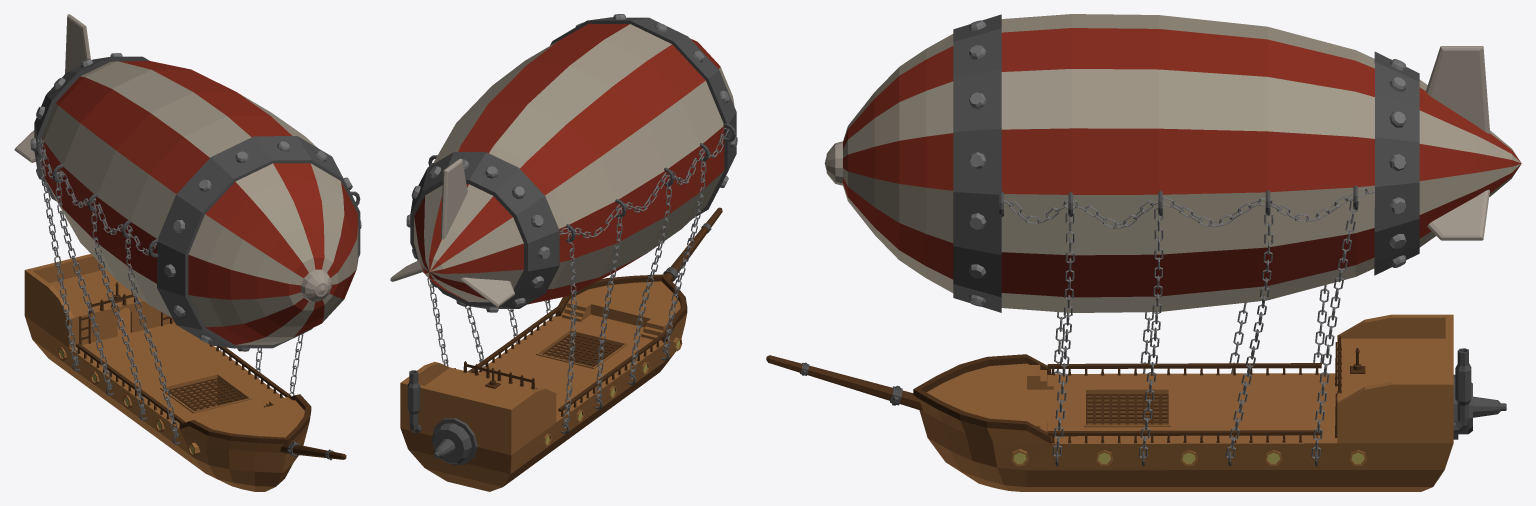
Rendered from Airshiipp.fbx.
The picture shows the model from 3 angles, left to right: view 1: azimuth 30°, elevation 25°; view 2: azimuth 150°, elevation 25°; view 3: azimuth 270°, elevation 25°; orthographic projection. The views are drawn at different scales.
Visible parts, largest first — view 1: Cylinder.010; view 2: Cylinder.010; view 3: Cylinder.010.
Boxes of the visible parts, x1,y1,x2,y2 form: Cylinder.010: (14, 14, 361, 491); Cylinder.010: (390, 14, 737, 491); Cylinder.010: (766, 14, 1521, 491).
Size of the model in its own units: 1203 by 1910 by 2867.
